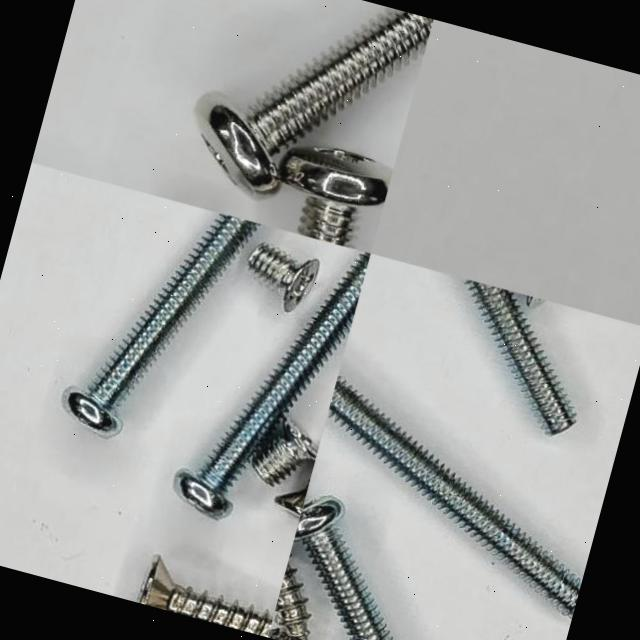Screw: (328, 375, 582, 618), (173, 252, 370, 519), (61, 214, 260, 435), (196, 9, 433, 194), (464, 278, 576, 435), (293, 497, 393, 640), (279, 149, 392, 248), (137, 556, 273, 637), (249, 243, 320, 312), (252, 422, 318, 486), (274, 556, 309, 640)
